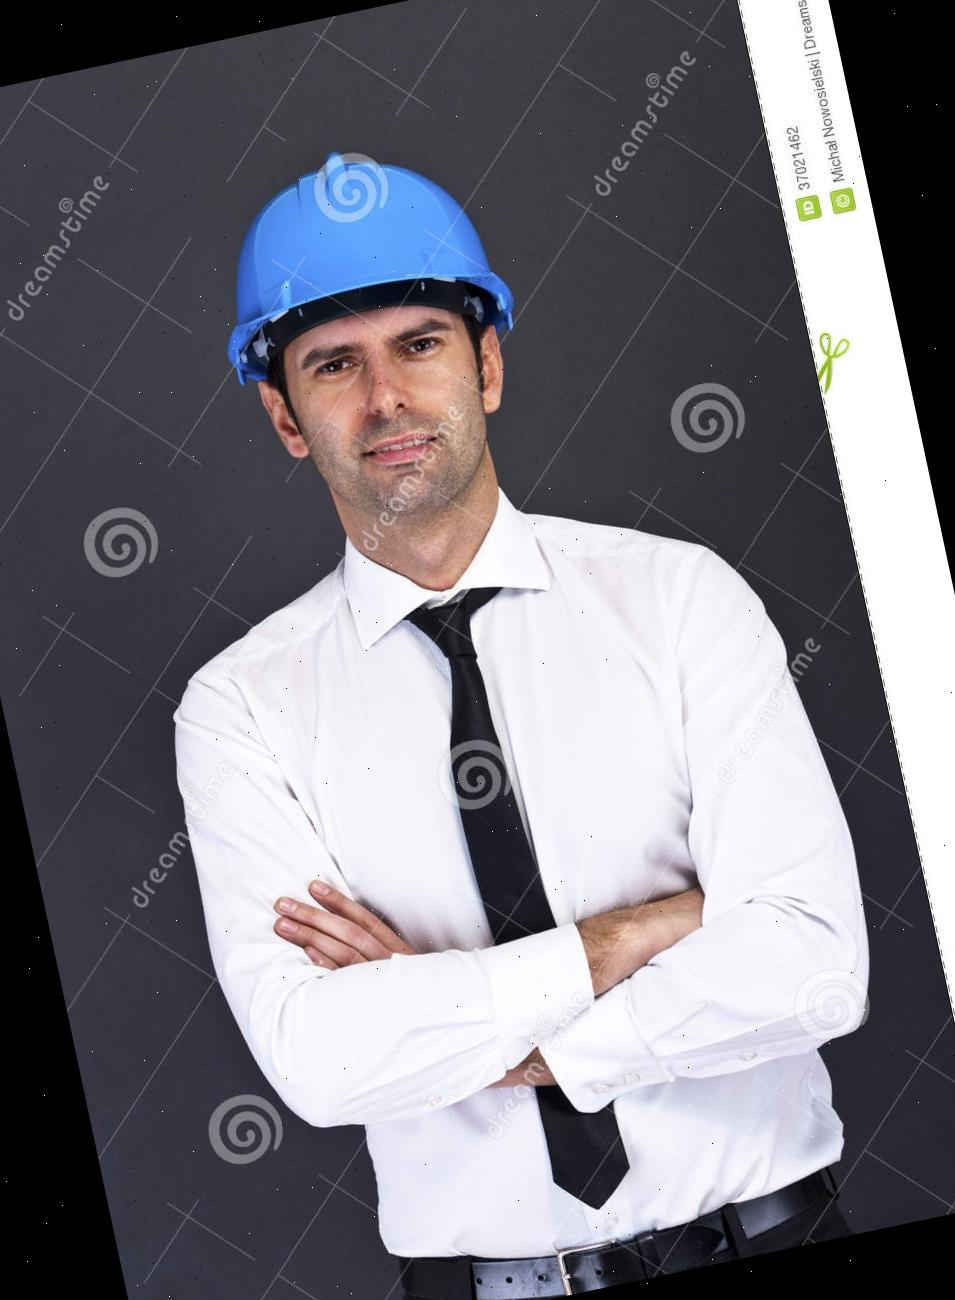helmet: (194, 136, 514, 387)
no_wear: (173, 515, 908, 1292)
